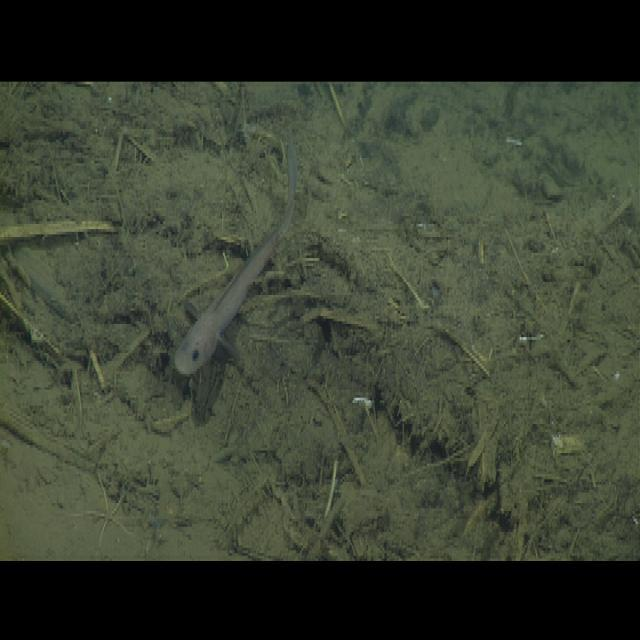Brittle Star: (63, 469, 141, 554)
Not Brittle Star: (171, 119, 302, 383)
